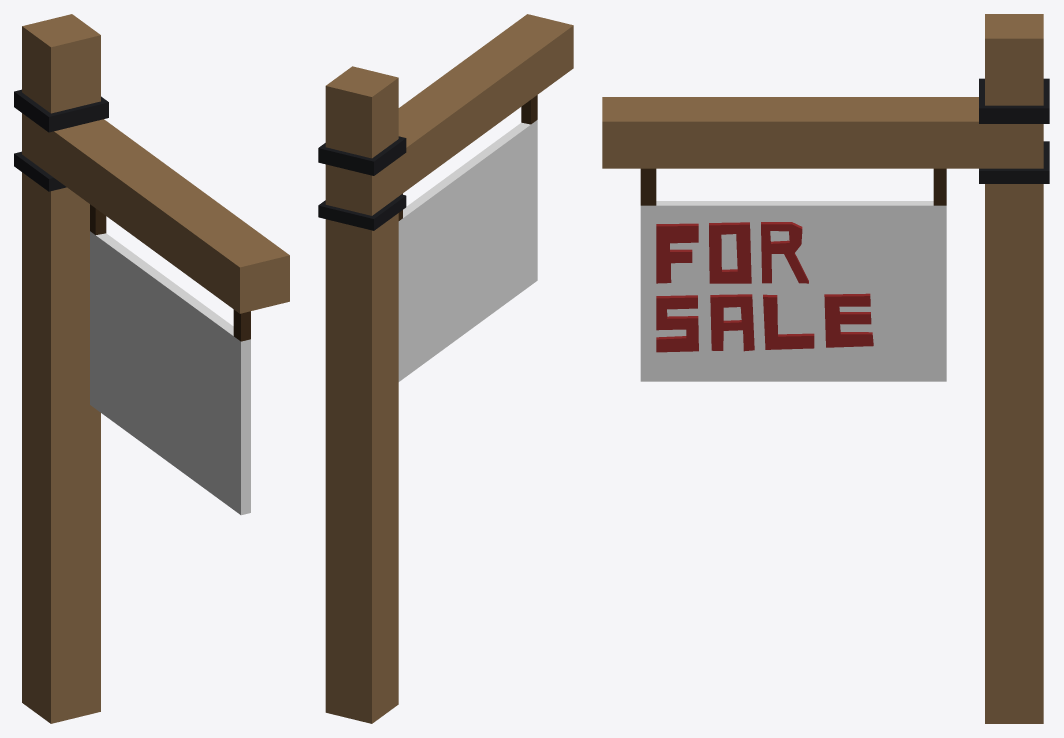
The model's file is ForSale.fbx.
3 renders of one model, left to right at view 1: azimuth 30°, elevation 25°; view 2: azimuth 150°, elevation 25°; view 3: azimuth 270°, elevation 25°, orthographic. The views are drawn at different scales.
Visible parts, largest first — view 1: ForSale; view 2: ForSale; view 3: ForSale.
Part boxes in pixels (<box>): ForSale: <box>14,14,289,723</box>; ForSale: <box>318,14,573,723</box>; ForSale: <box>602,14,1049,723</box>.
Bounding box in the file's own units: 0.301 × 3.23 × 1.91.
